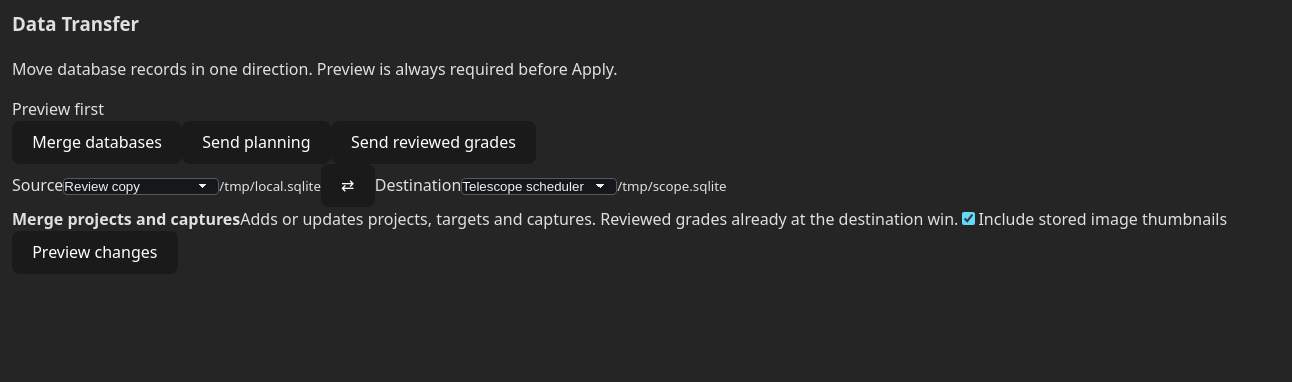
SchedulerSyncControls › says which projects a transfer deletes because the source catalog deleted them
Click the button "Send planning".
click(256, 142)  # box [182,120,331,164]
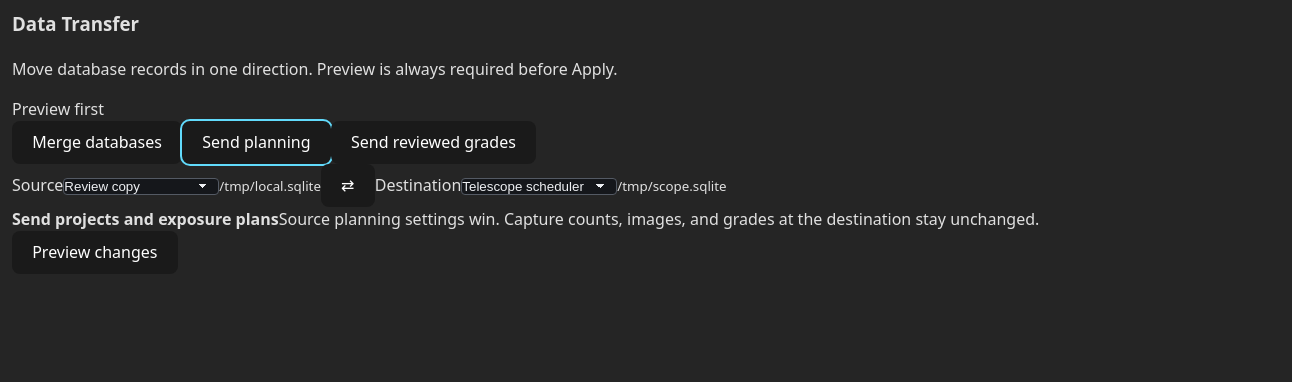
Click the button "Preview changes".
click(95, 252)  # box [12,231,178,274]
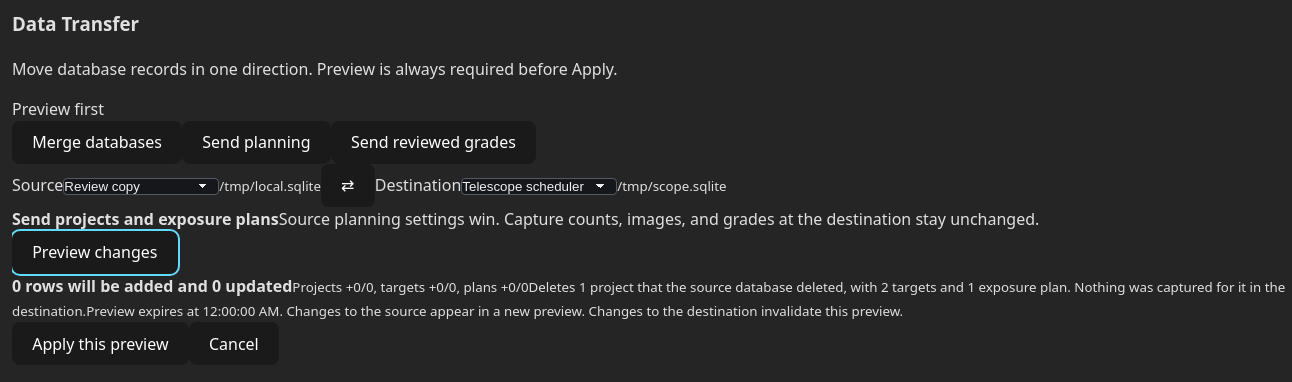
Check: the text "Deletes 1 project that the source database deleted, with 2 targets and 1 exposure plan. Nothing was captured for it in t" is shown, box [12,278,1285,320]
Click the button "Apply this preview".
click(100, 344)  # box [12,322,189,365]
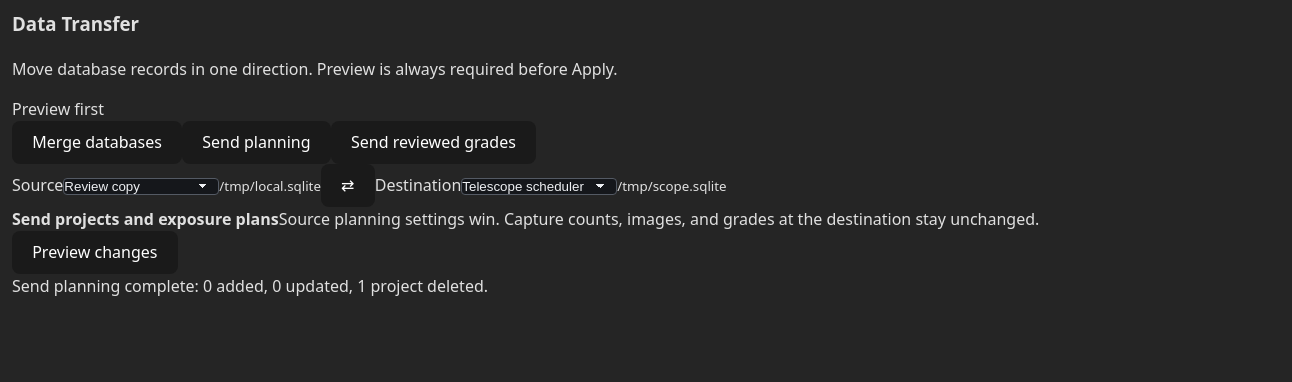
Check: the text "Send planning complete: 0 added, 0 updated, 1 project deleted." is shown, box [12,275,488,297]
